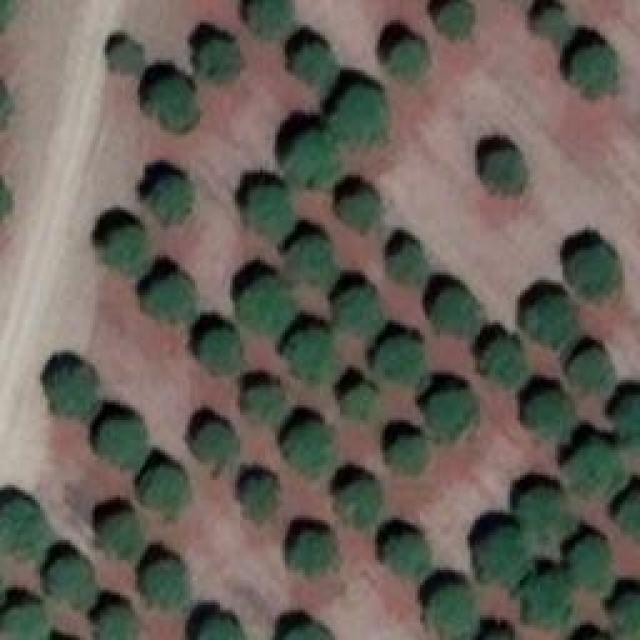Tree: (93, 413, 153, 473), (325, 83, 388, 138), (560, 440, 615, 498), (282, 130, 340, 185), (520, 570, 573, 630), (38, 558, 98, 611), (283, 417, 336, 475), (235, 275, 290, 330), (48, 365, 103, 420), (568, 250, 623, 303), (518, 483, 571, 538), (475, 525, 525, 583), (475, 338, 528, 391), (523, 295, 576, 348), (143, 273, 196, 326), (568, 45, 621, 98), (143, 78, 198, 128), (335, 285, 388, 335), (380, 530, 433, 580), (188, 420, 238, 473), (143, 558, 196, 608), (565, 535, 613, 590), (422, 388, 470, 441), (287, 328, 335, 381), (427, 585, 475, 638), (0, 497, 42, 557), (433, 290, 483, 340), (243, 185, 293, 235), (377, 335, 425, 385), (332, 478, 380, 528), (287, 530, 335, 578), (140, 468, 190, 513), (530, 392, 575, 440), (285, 238, 333, 283), (103, 225, 146, 275), (150, 177, 193, 225), (385, 37, 428, 85), (195, 40, 243, 83), (483, 150, 528, 195), (290, 43, 335, 88), (0, 597, 47, 640), (568, 350, 611, 395), (335, 190, 380, 233), (240, 475, 280, 520), (245, 0, 295, 35), (388, 435, 431, 475), (338, 383, 378, 426), (243, 383, 283, 426), (383, 245, 428, 283), (100, 510, 138, 555), (200, 330, 238, 373), (435, 0, 475, 40), (95, 605, 138, 640), (612, 493, 640, 546), (612, 590, 640, 633), (530, 8, 565, 41), (278, 622, 341, 640), (620, 390, 640, 445), (195, 617, 242, 640), (108, 42, 143, 70)
